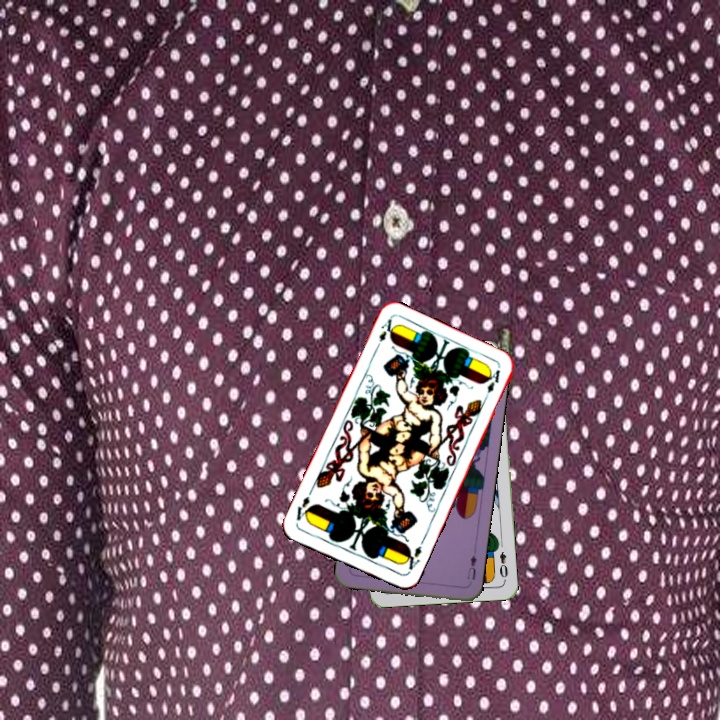EA: (371, 315, 397, 353), (400, 542, 424, 576)
EO: (495, 548, 511, 584)
EU: (463, 551, 479, 582)
